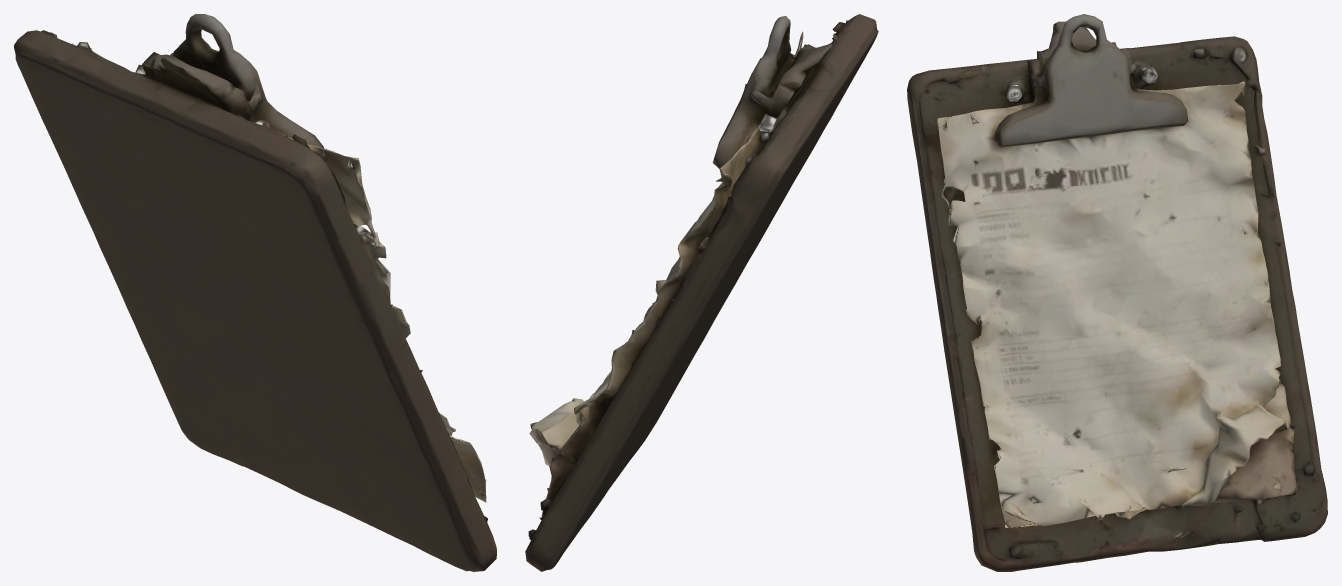
Rendered from clipboard.glb.
The picture shows the model from 3 angles, left to right: view 1: azimuth 30°, elevation 25°; view 2: azimuth 150°, elevation 25°; view 3: azimuth 270°, elevation 25°; orthographic projection. The views are drawn at different scales.
Visible parts, largest first — view 1: tripo_node_2f1d717b-97c2-4075-9ee5-5cd046cf3c1c; view 2: tripo_node_2f1d717b-97c2-4075-9ee5-5cd046cf3c1c; view 3: tripo_node_2f1d717b-97c2-4075-9ee5-5cd046cf3c1c.
Part boxes in pixels (left/top/right/bottom): tripo_node_2f1d717b-97c2-4075-9ee5-5cd046cf3c1c: left=14, top=14, right=496, bottom=571; tripo_node_2f1d717b-97c2-4075-9ee5-5cd046cf3c1c: left=525, top=14, right=878, bottom=571; tripo_node_2f1d717b-97c2-4075-9ee5-5cd046cf3c1c: left=907, top=14, right=1327, bottom=571.
Bounding box in the file's own units: 0.6124 × 1 × 0.8102.
1 material, 1 textured.
